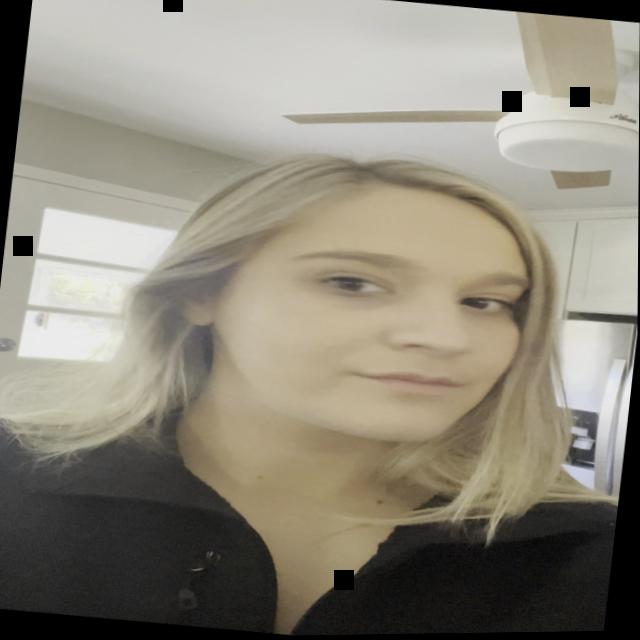NO-Mask: (152, 158, 566, 509)
